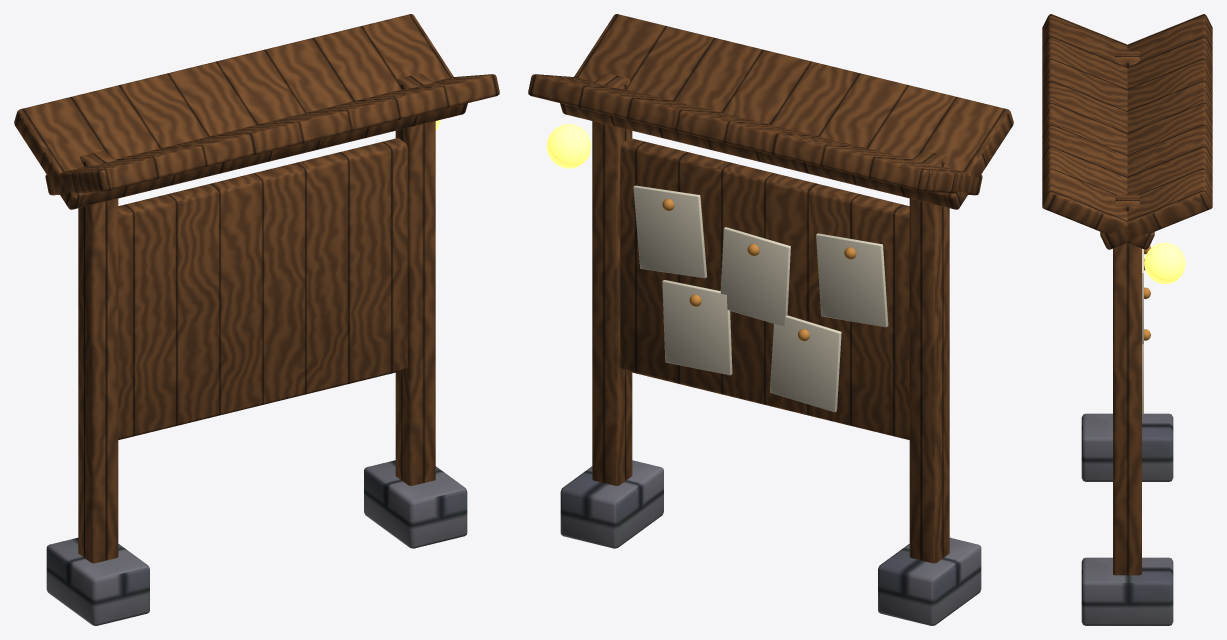
File: quest_board.glb
3 views of the same model, side by side, from view 1: azimuth 30°, elevation 25°; view 2: azimuth 150°, elevation 25°; view 3: azimuth 270°, elevation 25° (orthographic). The views are drawn at different scales.
Parts seen in each view (by area): view 1: BoardBacking, RoofFront, Post, RoofBack, Post.001, Foot, Foot.001; view 2: BoardBacking, RoofBack, Post, RoofFront, Post.001, Foot, Foot.001, Notice, Notice.002, Notice.004, Notice.003, Notice.001 (+1 smaller); view 3: RoofFront, RoofBack, Post.001, Foot.001, Foot, BoardLantern, Post.
Part boxes in pixels (x1,y1,x2,y2): BoardBacking: [118, 138, 407, 439]; RoofFront: [14, 14, 467, 209]; Post: [78, 151, 118, 563]; RoofBack: [45, 74, 499, 195]; Post.001: [395, 73, 435, 485]; Foot: [46, 537, 149, 625]; Foot.001: [364, 460, 467, 548]; BoardBacking: [620, 138, 909, 439]; RoofBack: [560, 14, 1013, 209]; Post: [909, 151, 949, 563]; RoofFront: [528, 74, 982, 195]; Post.001: [592, 73, 632, 485]; Foot: [878, 537, 981, 625]; Foot.001: [560, 460, 663, 548]; Notice: [816, 233, 888, 327]; Notice.002: [633, 185, 707, 278]; Notice.004: [662, 280, 732, 375]; Notice.003: [770, 315, 841, 412]; Notice.001: [720, 227, 790, 326]; RoofFront: [1100, 14, 1212, 249]; RoofBack: [1042, 14, 1154, 249]; Post.001: [1113, 195, 1141, 575]; Foot.001: [1081, 557, 1173, 625]; Foot: [1081, 413, 1173, 481]; BoardLantern: [1144, 242, 1185, 283]; Post: [1115, 51, 1139, 67].
Size of the model in its own units: 2.06 by 2.33 by 0.8207.
Materials: 6 (4 with a texture image).
